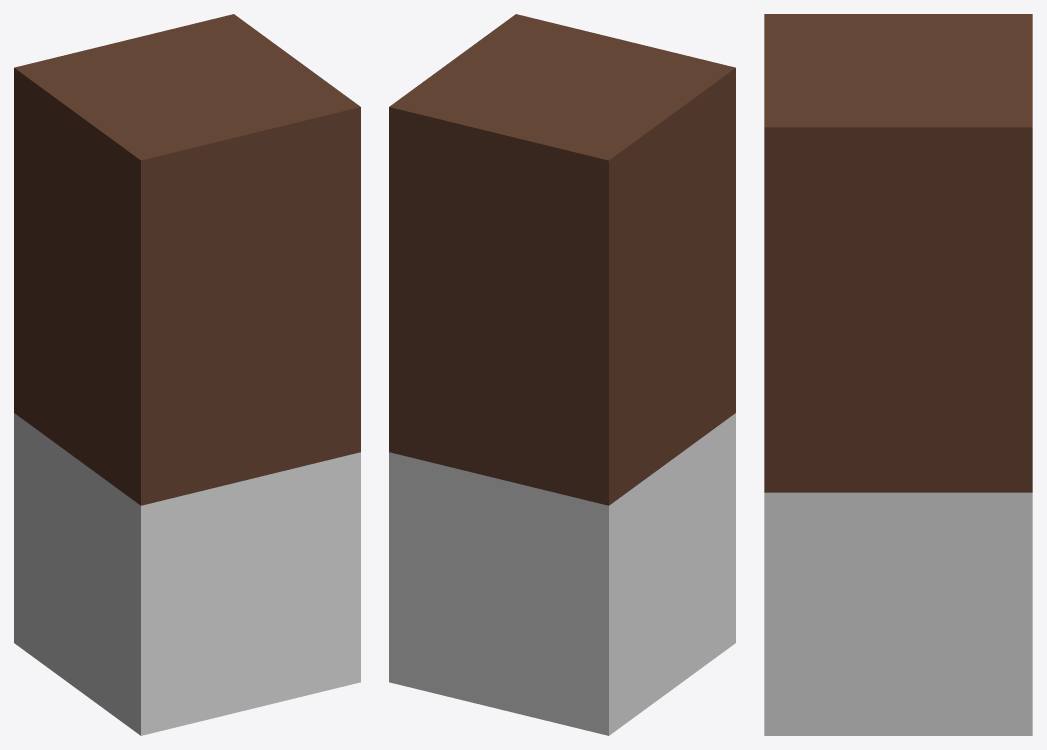
The model's file is Animals-32.obj.
The picture shows the model from 3 angles, left to right: view 1: azimuth 30°, elevation 25°; view 2: azimuth 150°, elevation 25°; view 3: azimuth 270°, elevation 25°; orthographic projection. The views are drawn at different scales.
Bounding box in the file's own units: 0.2 × 0.5 × 0.2.
1 material, 1 textured.
